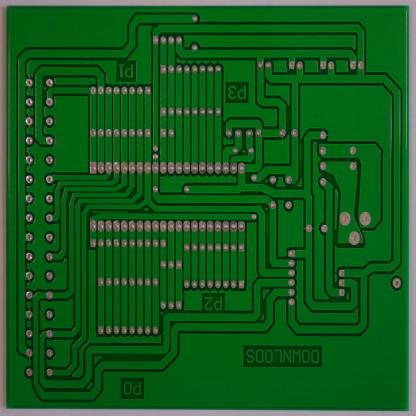spurious_copper: (91, 209, 130, 214), (265, 212, 270, 237), (298, 142, 303, 160)
